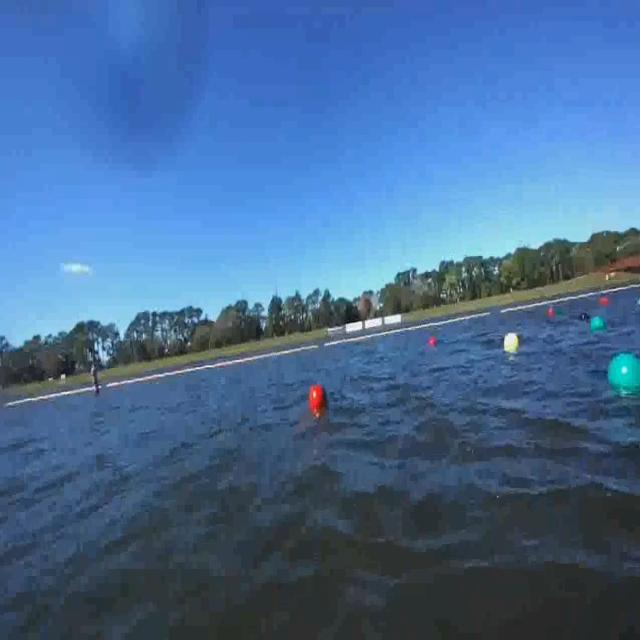green-buoy: (606, 355, 640, 395), (588, 320, 604, 336)
red-buoy: (308, 382, 328, 415), (599, 296, 609, 305), (550, 306, 556, 315)
yellow-buoy: (502, 334, 518, 354)
